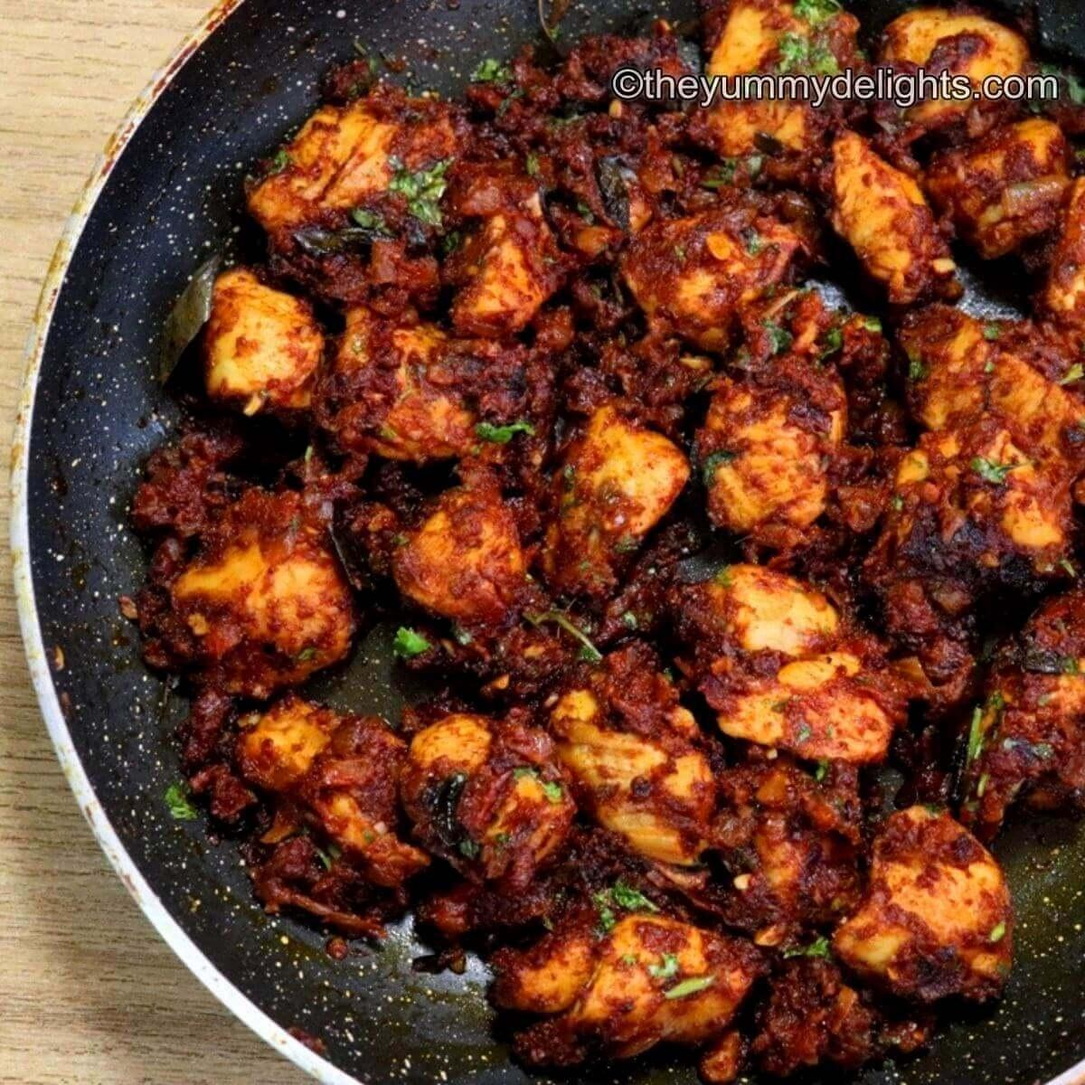chicken: (205, 71, 1064, 1085)
